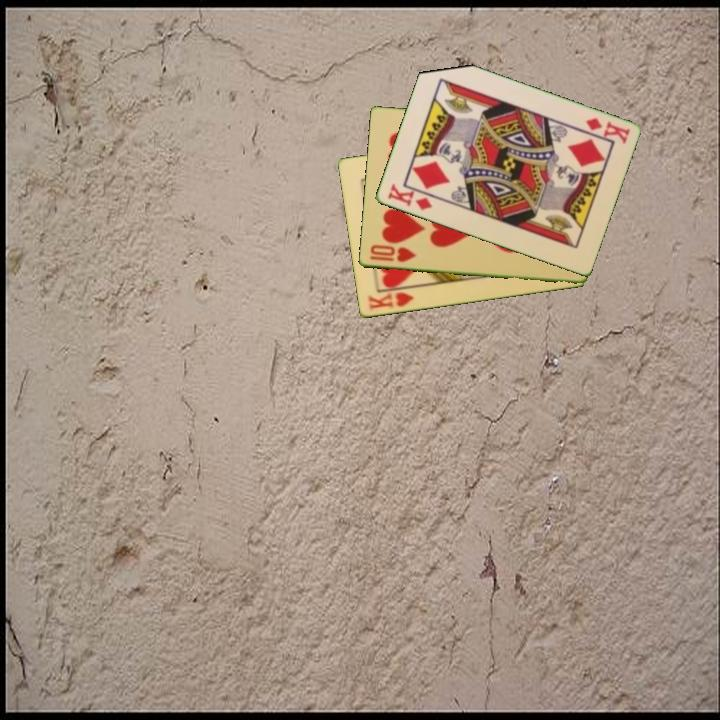10h: (366, 242, 419, 265)
Kd: (384, 180, 435, 213), (582, 114, 632, 147)
Kh: (365, 284, 418, 314)
